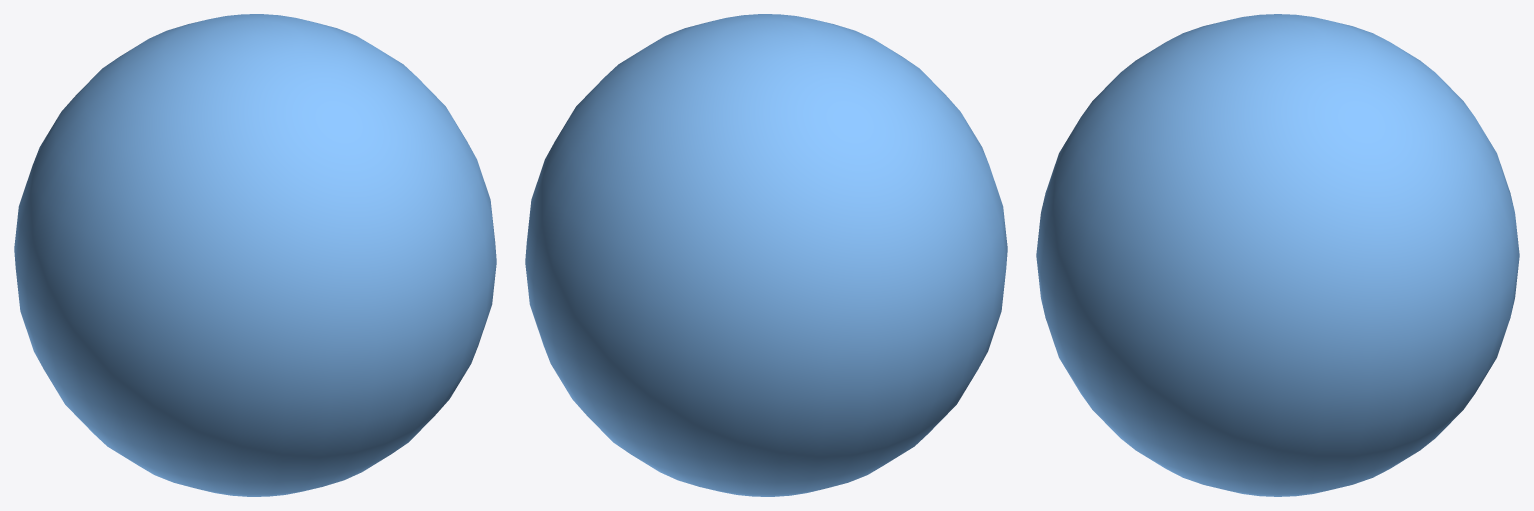
File: O_Oxigeno.glb
The picture shows the model from 3 angles, left to right: view 1: azimuth 30°, elevation 25°; view 2: azimuth 150°, elevation 25°; view 3: azimuth 270°, elevation 25°; orthographic projection.
Visible parts, largest first — view 1: O_Nube_Electronica; view 2: O_Nube_Electronica; view 3: O_Nube_Electronica.
Part boxes in pixels (x1=…): O_Nube_Electronica: x1=14, y1=14, x2=496, y2=496; O_Nube_Electronica: x1=525, y1=14, x2=1007, y2=496; O_Nube_Electronica: x1=1036, y1=14, x2=1519, y2=496.
Bounding box in the file's own units: 0.184 × 0.184 × 0.184.
